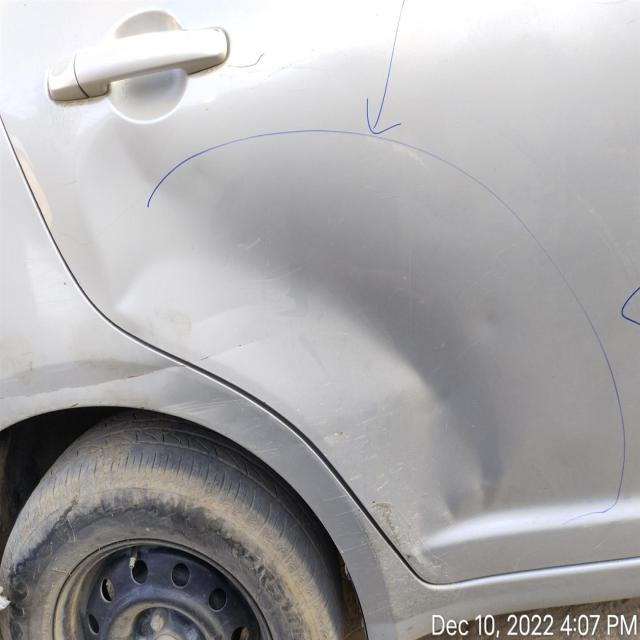damage: (76, 107, 504, 585), (0, 359, 210, 425)
